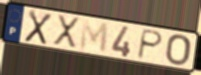4: (109, 23, 132, 59)
M: (78, 18, 110, 55)
O: (165, 34, 193, 67)
P: (135, 28, 165, 61)
X: (22, 8, 53, 47), (51, 14, 81, 51)
